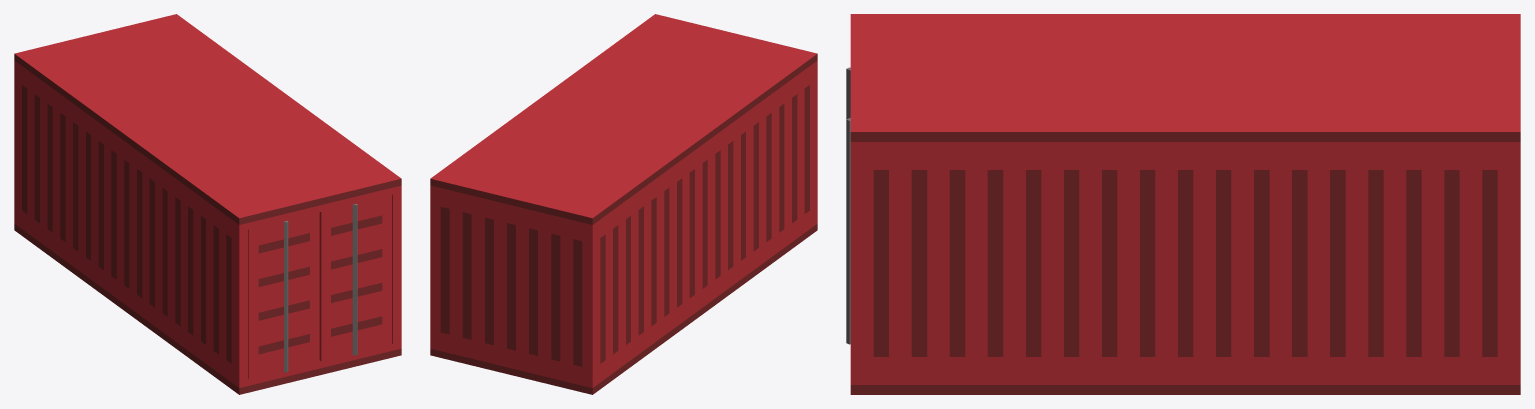
The model's file is cargo-shipping_red.glb.
3 renders of one model, left to right at view 1: azimuth 30°, elevation 25°; view 2: azimuth 150°, elevation 25°; view 3: azimuth 270°, elevation 25°, orthographic. The views are drawn at different scales.
Parts seen in each view (by area): view 1: cargo-shipping-base_red, cargo-shipping-door_L_red, cargo-shipping-door_R_red; view 2: cargo-shipping-base_red; view 3: cargo-shipping-base_red, cargo-shipping-door_L_red.
Boxes of the visible parts, box(x1,y1,x2,y2) form: cargo-shipping-base_red: box(14, 14, 401, 394); cargo-shipping-door_L_red: box(319, 194, 391, 361); cargo-shipping-door_R_red: box(248, 212, 319, 378); cargo-shipping-base_red: box(430, 14, 817, 394); cargo-shipping-base_red: box(850, 14, 1520, 394); cargo-shipping-door_L_red: box(846, 118, 850, 344).
Bounding box in the file's own units: 2.5 × 2.6 × 6.04.
1 material, 1 textured.
